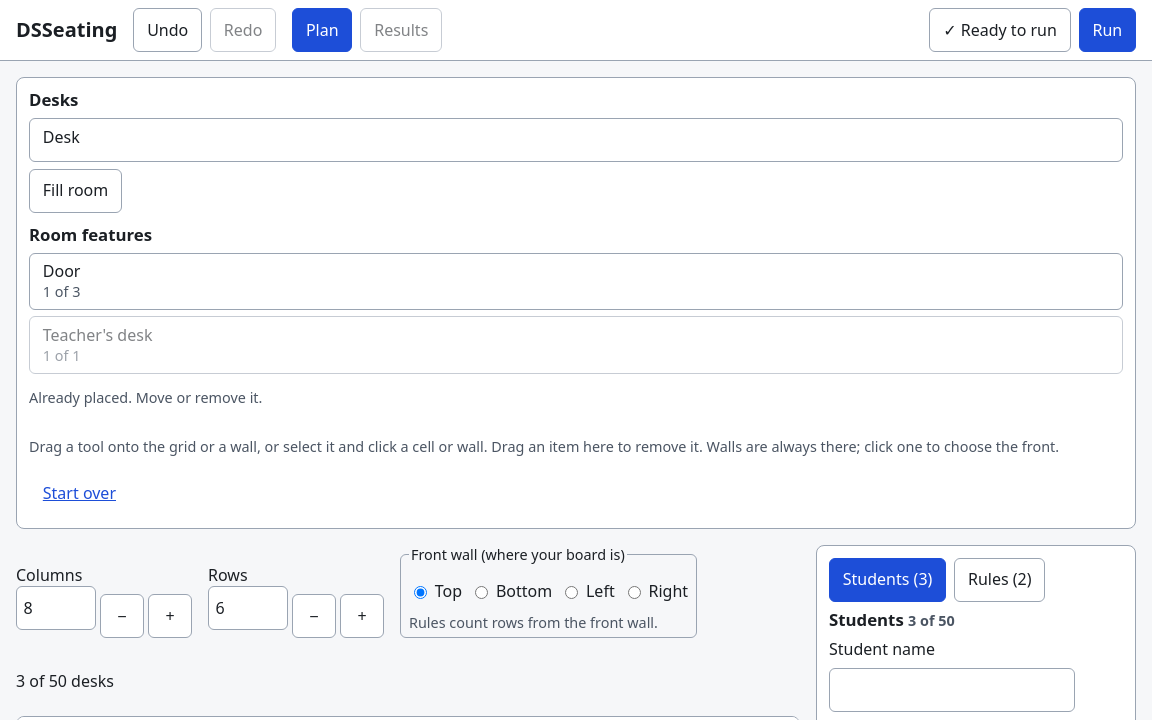
Test: Run › sends ids only, then shows Results with "N of M rules met"
The width and height of the screenshot is (1152, 720).
Click the button "Run" at {"x": 1107, "y": 30}, box [1079,8,1136,52]
(page scrolled)
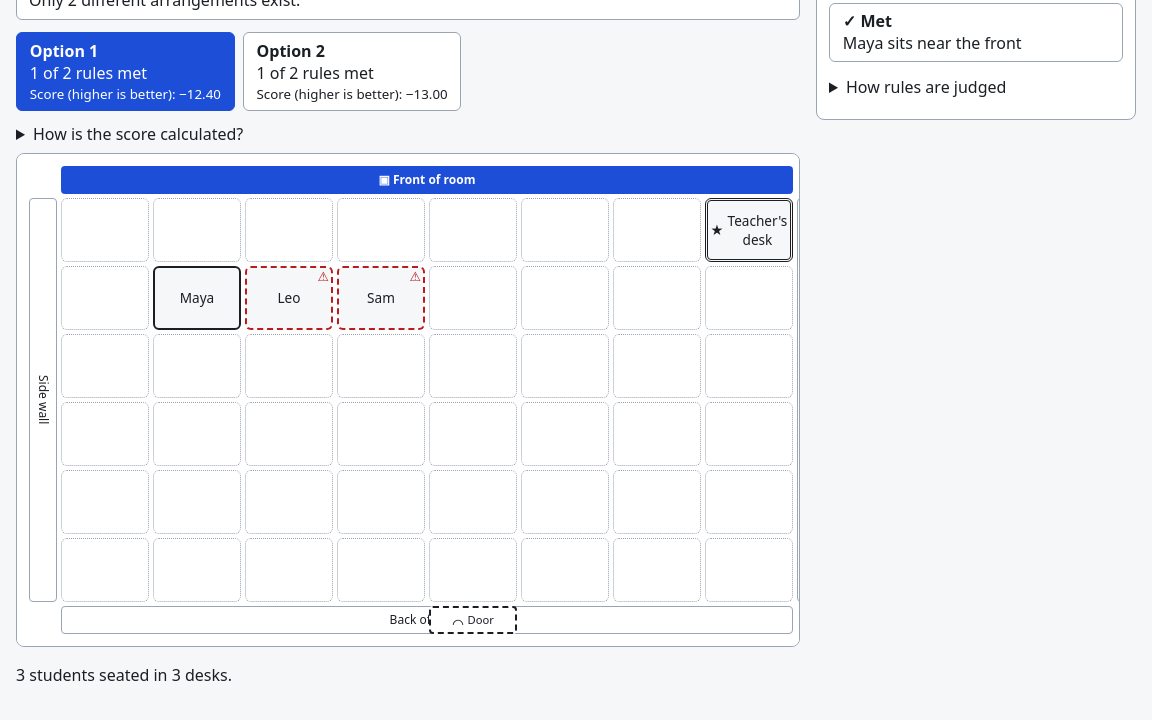
expect the tab "Option 1 1 of 2 rules met Score (higher is better): −12.40" is shown: met, box [16,32,235,110]
